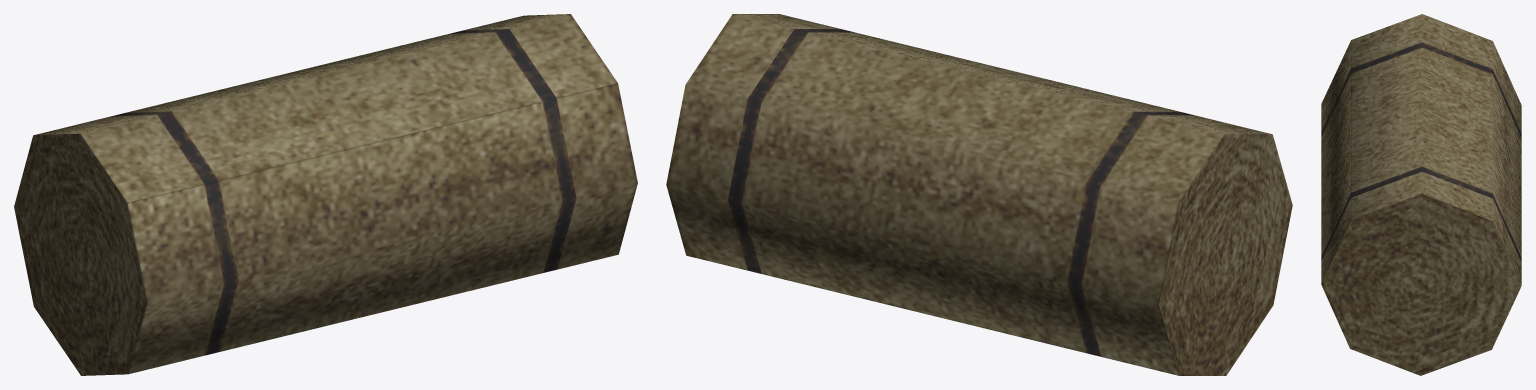
Rendered from SM_EC_Hay_4.fbx.
The picture shows the model from 3 angles, left to right: view 1: azimuth 30°, elevation 25°; view 2: azimuth 150°, elevation 25°; view 3: azimuth 270°, elevation 25°; orthographic projection. The views are drawn at different scales.
Parts seen in each view (by area): view 1: SM_EC_Hay_4; view 2: SM_EC_Hay_4; view 3: SM_EC_Hay_4.
Boxes of the visible parts, <box> form: SM_EC_Hay_4: <box>14,14,637,375</box>; SM_EC_Hay_4: <box>666,14,1292,375</box>; SM_EC_Hay_4: <box>1321,14,1521,375</box>.
Size of the model in its own units: 1.95 by 0.9165 by 0.9165.
